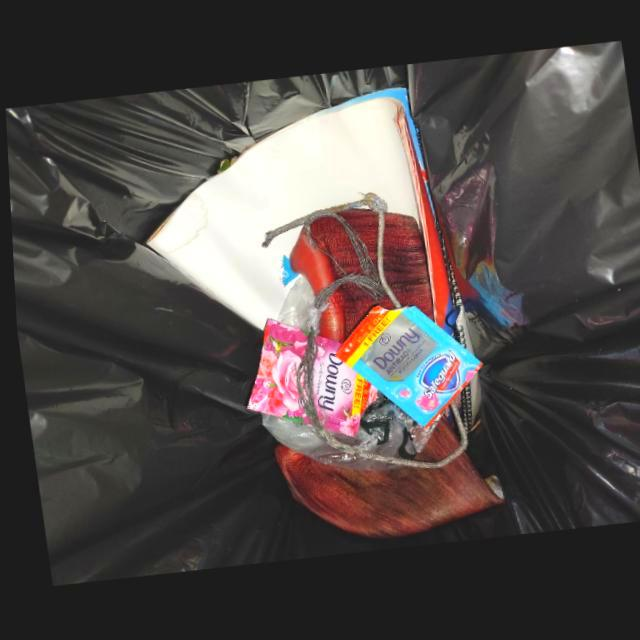cardboard: (123, 87, 451, 343)
plastic_sachet: (345, 306, 479, 431), (243, 320, 373, 440)
